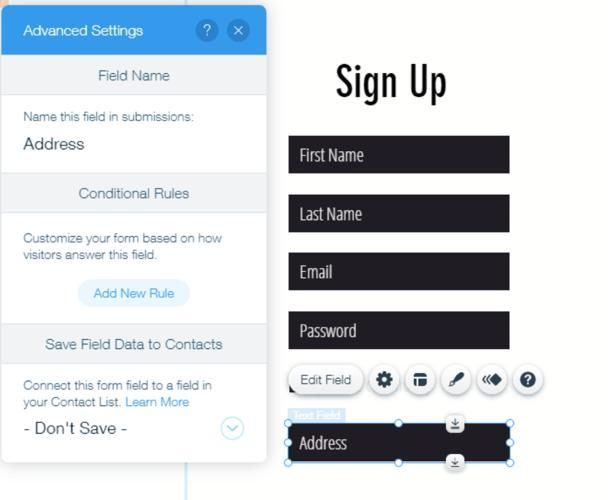button: (81, 279, 191, 309), (287, 363, 365, 396)
icon: (512, 366, 544, 398), (370, 365, 400, 397), (441, 367, 473, 397), (406, 367, 436, 397), (478, 368, 508, 394), (200, 23, 216, 40), (231, 26, 248, 40)
input: (288, 424, 511, 463), (289, 195, 510, 233), (290, 312, 510, 350), (289, 137, 511, 174), (289, 253, 511, 290)
